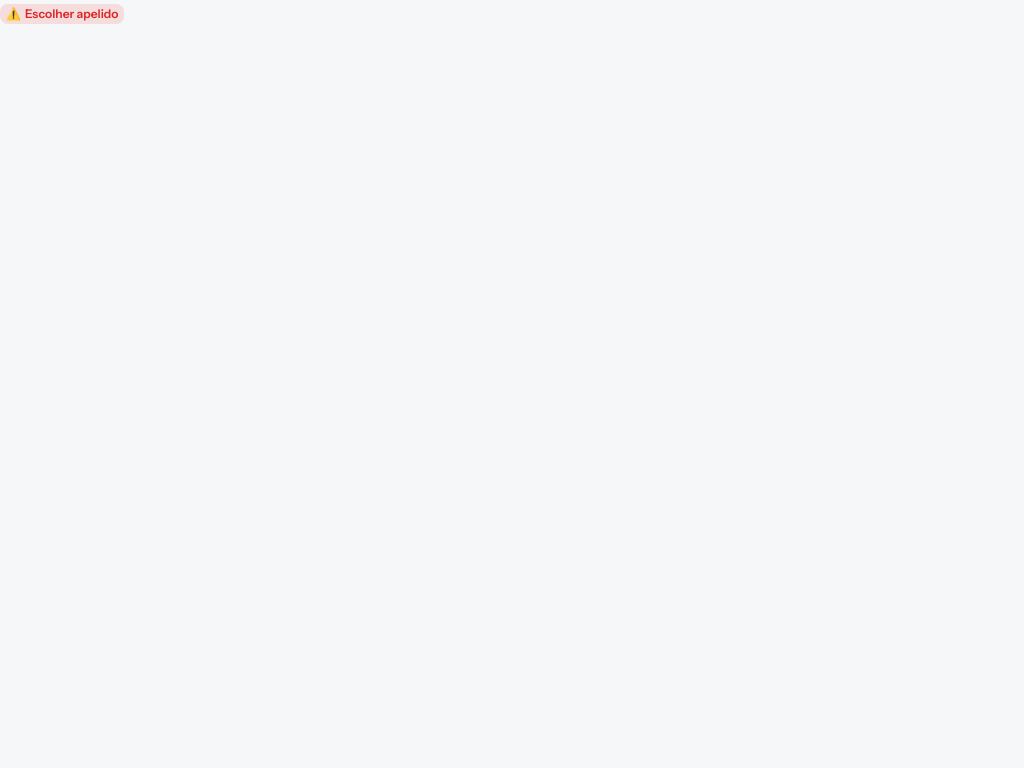
Test: escolher o próprio apelido › não envia apelido vazio
What coordinates should you click on to do the following:
click the button with aria-label "ainda não escolheu"
I would click on:
 (62, 14)
Its box is [0, 4, 124, 24].
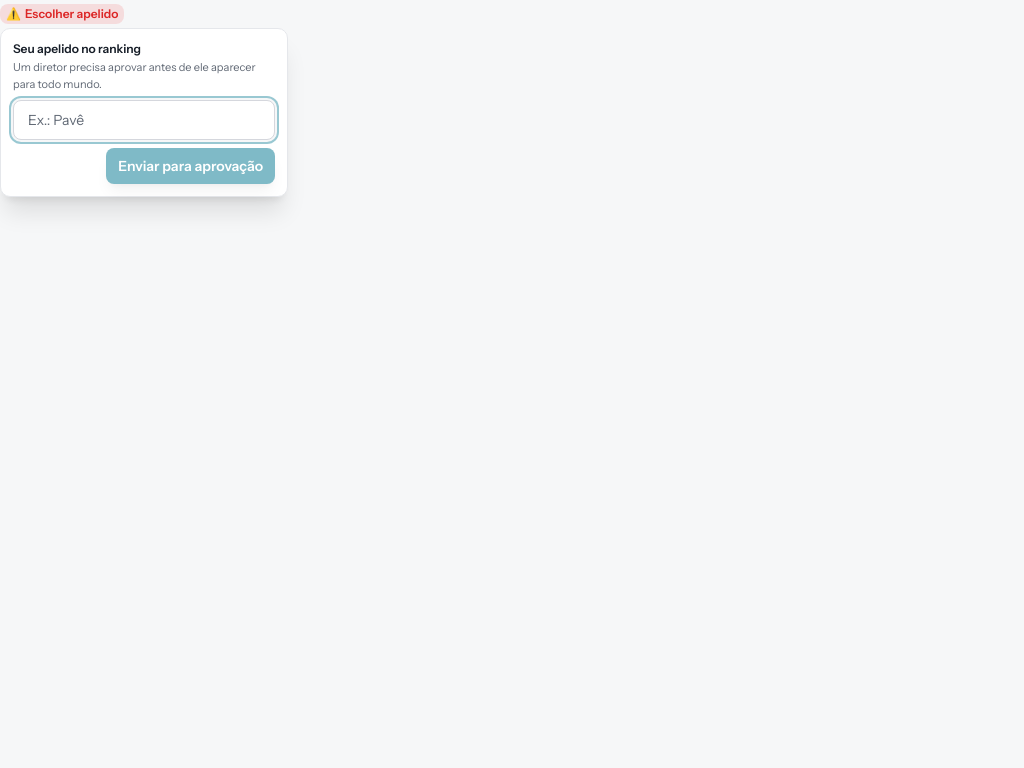
Check: the field with placeholder "Ex.: Pavê" is shown, box [13, 100, 275, 140]
Check: the button "Enviar para aprovação" is disabled, box [106, 148, 275, 184]
